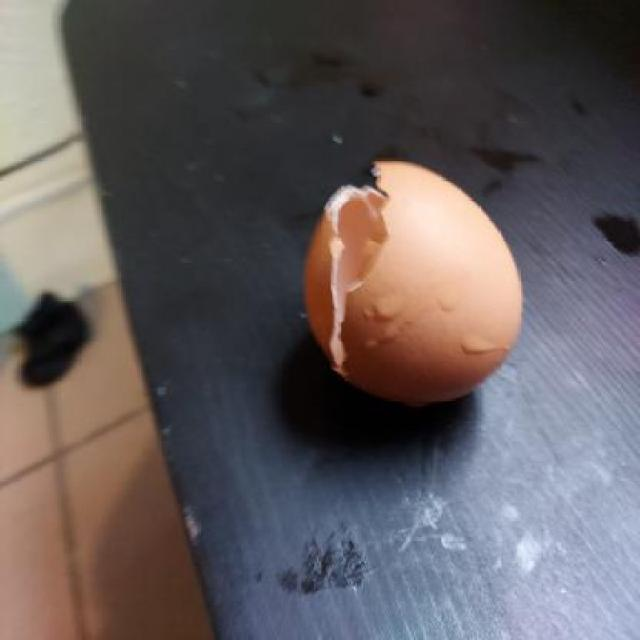biodegradable: (302, 156, 524, 410)
